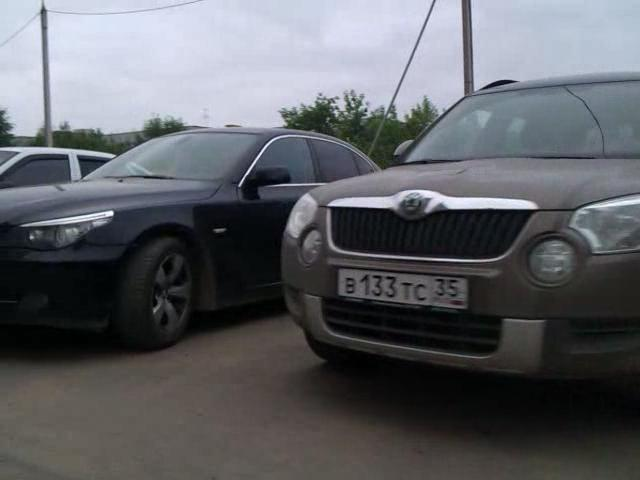car license plate: (336, 268, 470, 313)
